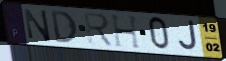0: (147, 15, 172, 53)
D: (49, 9, 79, 44)
H: (109, 14, 143, 51)
J: (177, 20, 199, 53)
N: (23, 7, 53, 44)
R: (82, 11, 116, 49)
